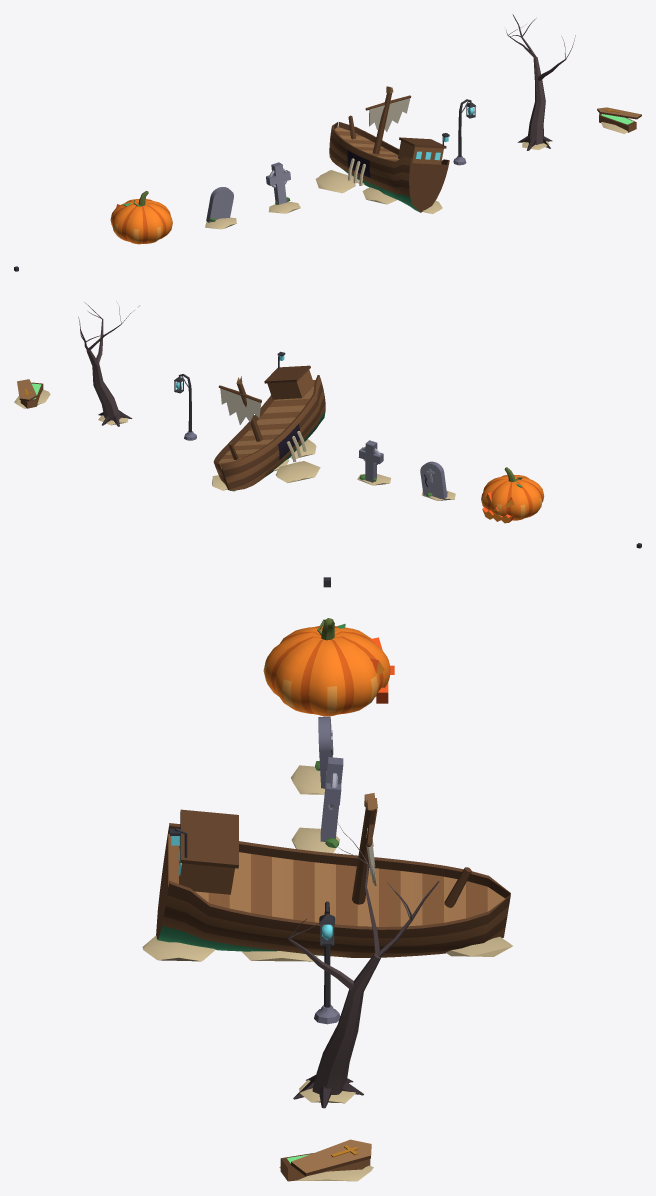
File: OrcaFantasma.fbx
3 renders of one model, top to bottom at view 1: azimuth 30°, elevation 25°; view 2: azimuth 150°, elevation 25°; view 3: azimuth 270°, elevation 25°, orthographic. The views are drawn at different scales.
Parts seen in each view (by area): view 1: BarcoHundido, Calabaza, ArbolSeco, Lapida, LapidaCruz, Ataud, FarolFantasma; view 2: BarcoHundido, Calabaza, ArbolSeco, Lapida, LapidaCruz, Ataud, FarolFantasma, Calabaza_Brillo; view 3: BarcoHundido, Calabaza, ArbolSeco, Ataud, LapidaCruz, Lapida, FarolFantasma.
Boxes of the visible parts, box(x1,y1,x2,y2) form: BarcoHundido: box(315, 86, 449, 214); Calabaza: box(110, 191, 172, 244); ArbolSeco: box(506, 14, 575, 150); Lapida: box(205, 187, 236, 229); LapidaCruz: box(266, 162, 300, 213); Ataud: box(597, 107, 641, 133); FarolFantasma: box(453, 99, 475, 165); BarcoHundido: box(212, 351, 325, 491); Calabaza: box(481, 467, 544, 520); ArbolSeco: box(78, 301, 139, 426); Lapida: box(420, 461, 455, 500); LapidaCruz: box(357, 440, 390, 485); Ataud: box(14, 379, 50, 408); FarolFantasma: box(174, 374, 196, 440); Calabaza_Brillo: box(482, 492, 514, 523); BarcoHundido: box(142, 793, 512, 961); Calabaza: box(263, 618, 390, 716); ArbolSeco: box(288, 822, 439, 1108); Ataud: box(279, 1139, 373, 1181); LapidaCruz: box(291, 757, 343, 852); Lapida: box(291, 716, 333, 794); FarolFantasma: box(314, 901, 340, 1024).
Bounding box in the file's own units: 191 × 35.78 × 49.4.
